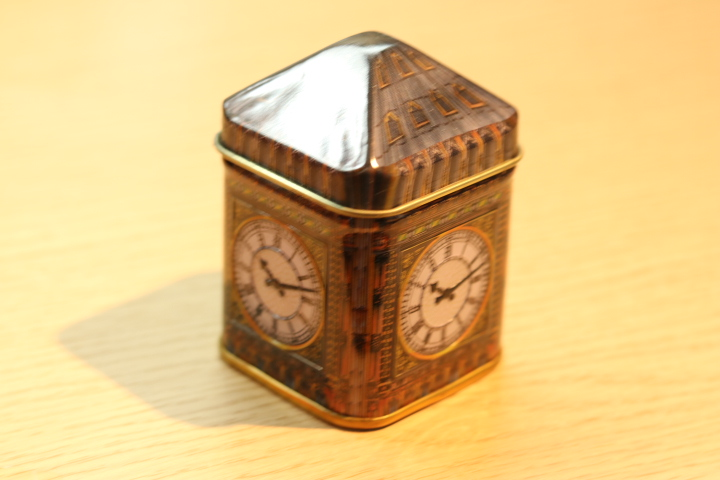Big Ben: (205, 22, 541, 441)
